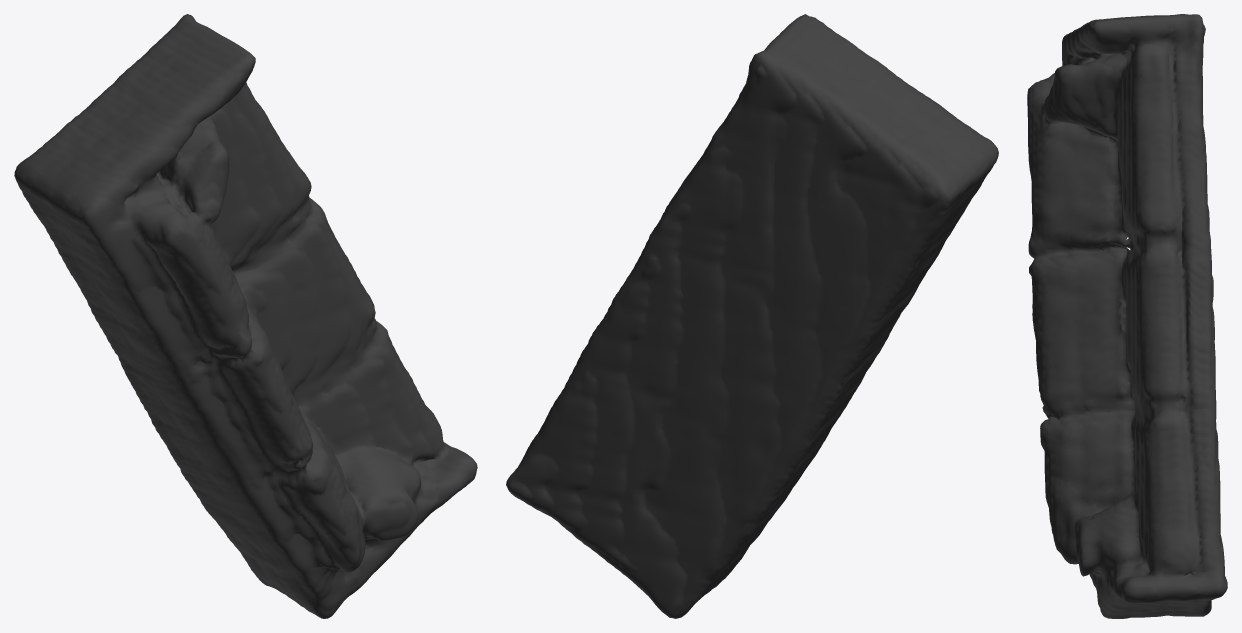
Rendered from sofa.glb.
The picture shows the model from 3 angles, left to right: view 1: azimuth 30°, elevation 25°; view 2: azimuth 150°, elevation 25°; view 3: azimuth 270°, elevation 25°; orthographic projection. The views are drawn at different scales.
Visible parts, largest first — view 1: mesh.obj; view 2: mesh.obj; view 3: mesh.obj.
Boxes of the visible parts, bbox=[...] form: mesh.obj: bbox=[14, 14, 477, 618]; mesh.obj: bbox=[506, 14, 998, 618]; mesh.obj: bbox=[1027, 14, 1227, 618].
Bounding box in the file's own units: 1.2 × 1.55 × 0.504.
1 material, 1 textured.
